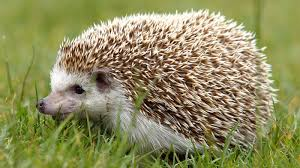hedgehog: (33, 9, 279, 166)
